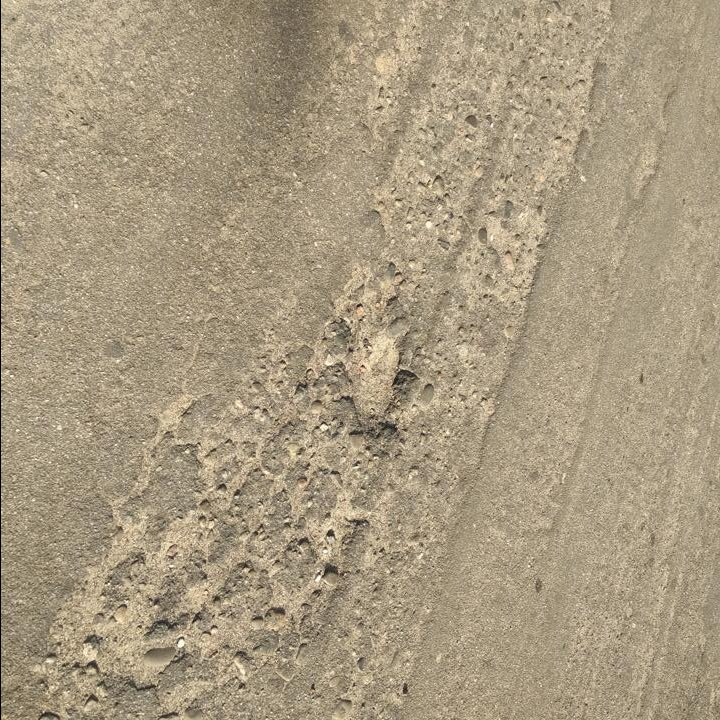pothole: (352, 322, 409, 437)
